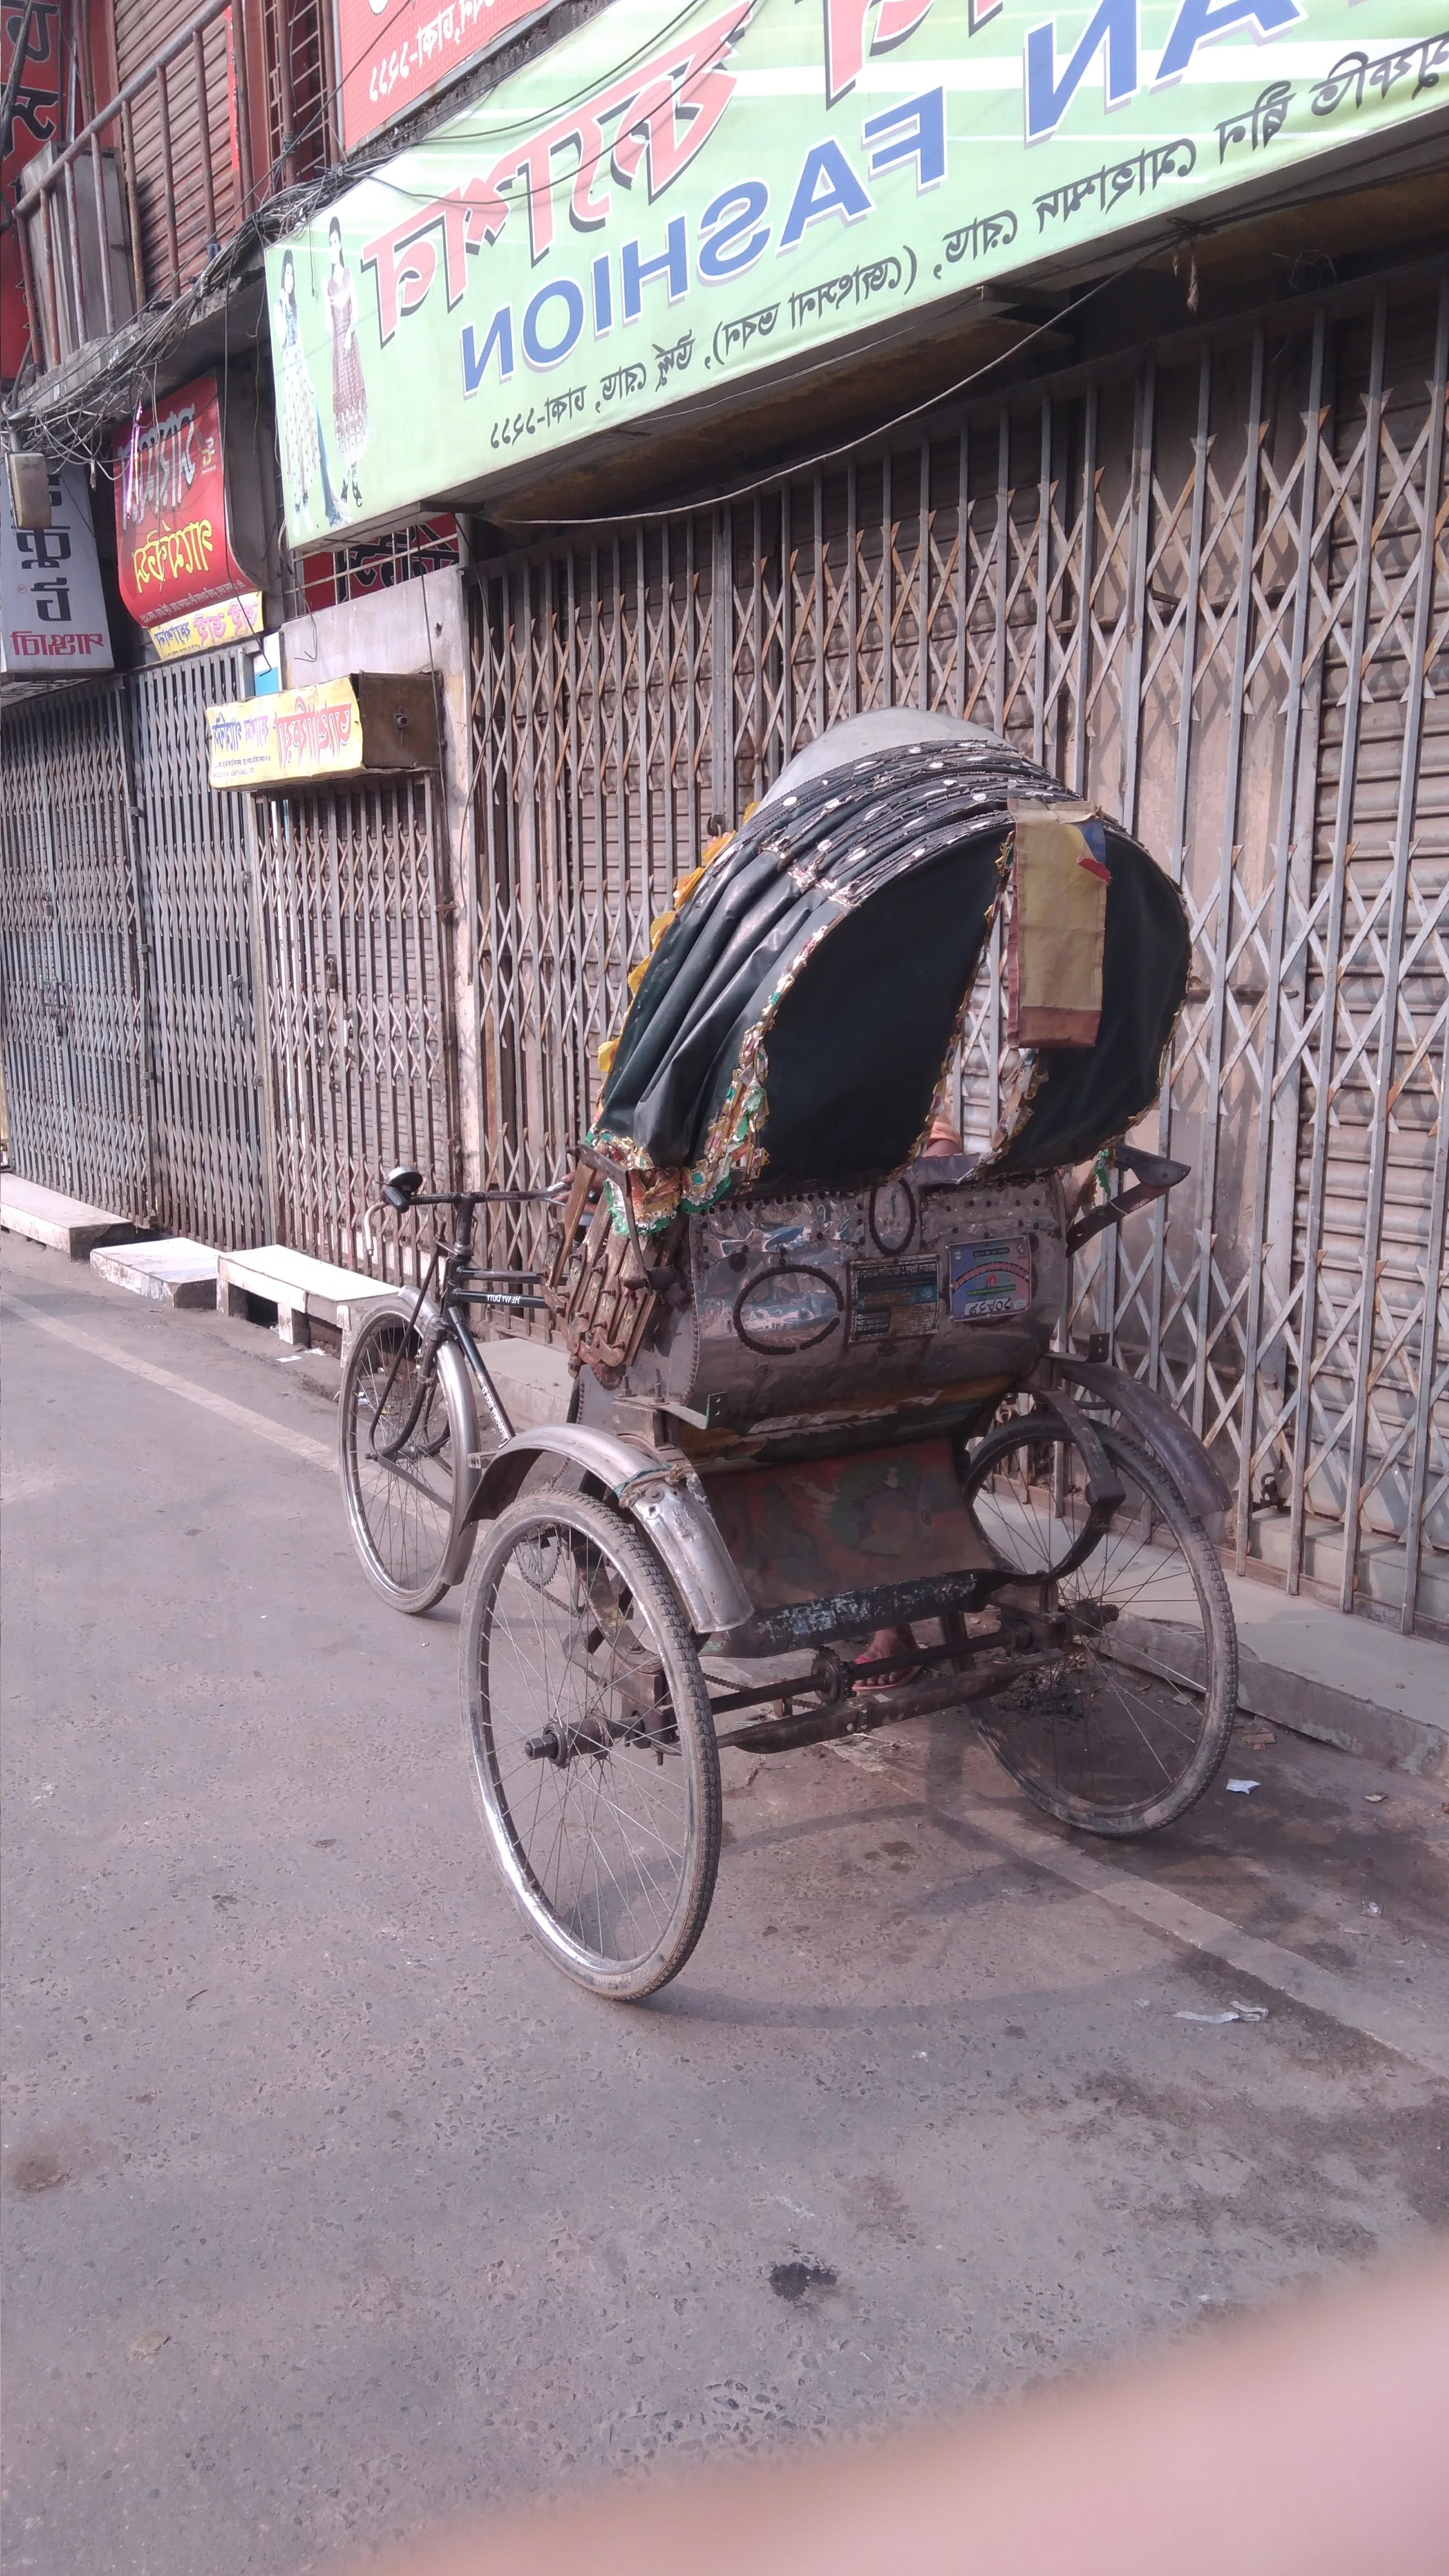Rickshaw: (308, 695, 1284, 1971)
